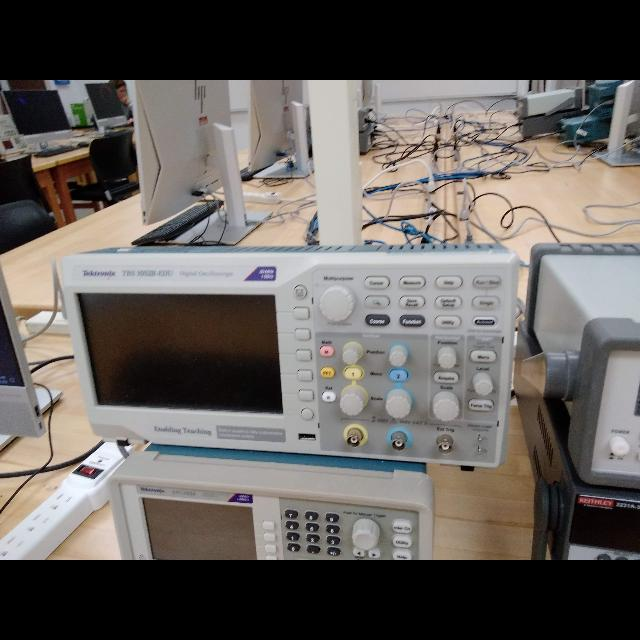Digital-Oscilloscope: (61, 261, 514, 471)
